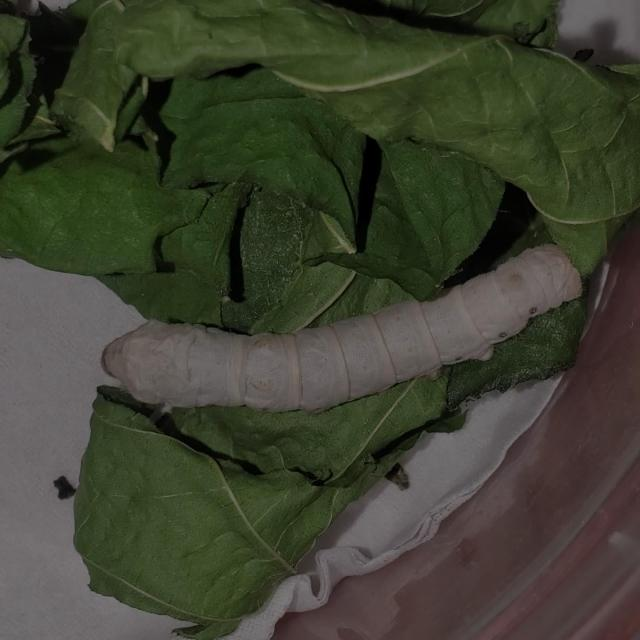Healthy: (76, 221, 626, 425)
